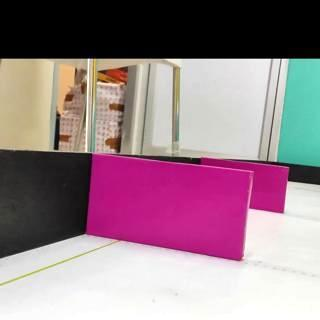xparking: (85, 155, 252, 262), (251, 163, 289, 213)
